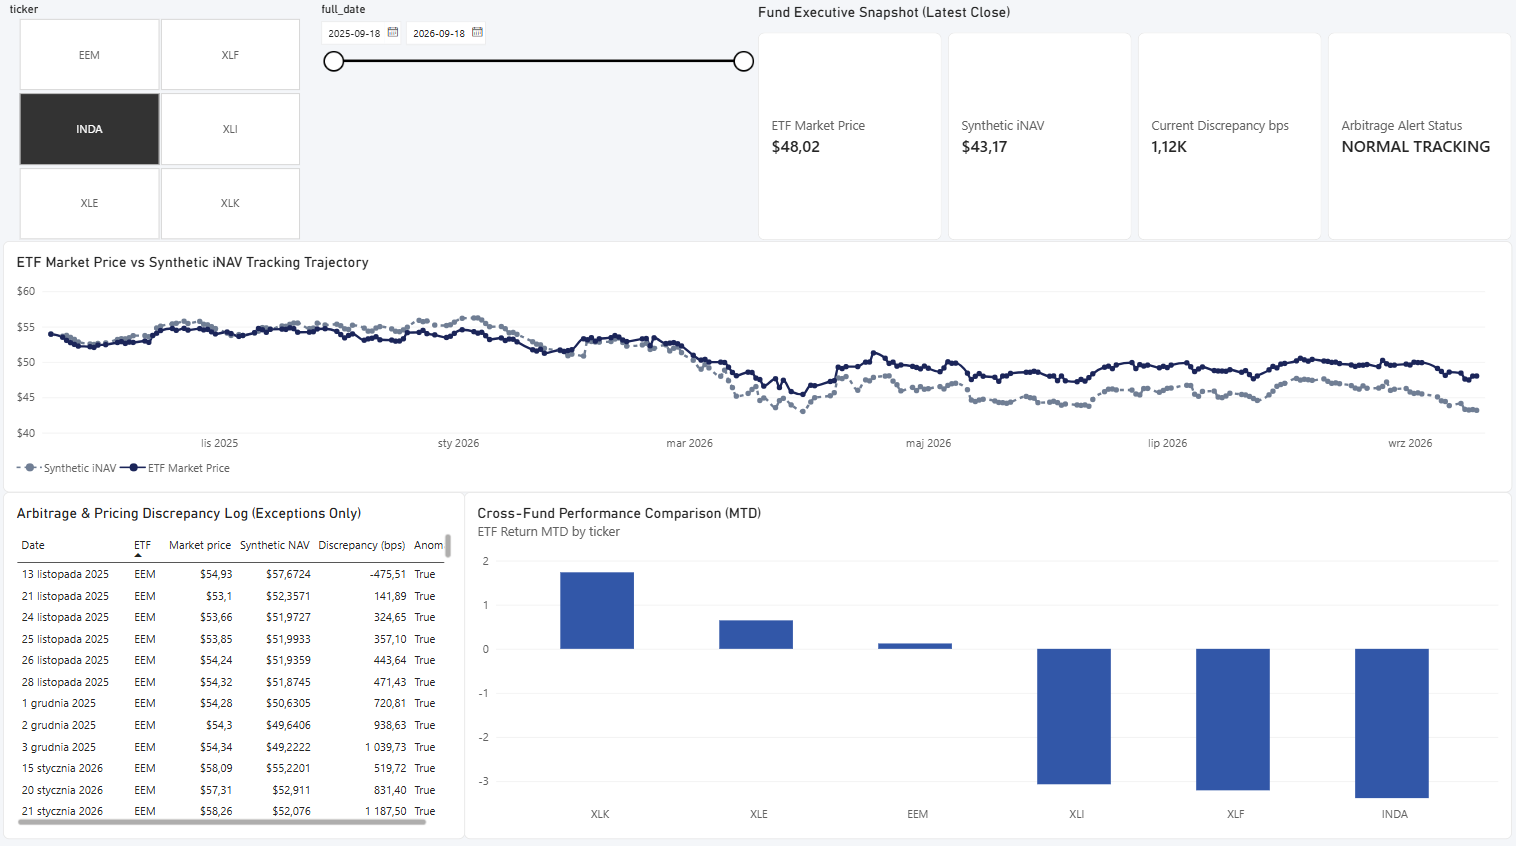

Layout of this report page (visuals, bound fields, positions):
{"tool":"powerbi","page":{"name":"Executive / Oversight","canvas":[1920,1080],"ordinal":0},"visuals":[{"type":"slicer","fields":{"Values":["dim_security.ticker"]},"box":[13.3,16,391,297.9],"z":0},{"type":"slicer","fields":{"Values":["dim_date.full_date"]},"box":[404.3,16,556,297.9],"z":1000},{"type":"cardVisual","title":"Fund Executive Snapshot (Latest Close)","fields":{"Data":["_Measures.ETF Market Price","_Measures.Synthetic iNAV","_Measures.Current Discrepancy bps","_Measures.Arbitrage Alert Status"]},"box":[960.3,16,944.3,297.9],"z":2000},{"type":"lineChart","title":"ETF Market Price vs Synthetic iNAV Tracking Trajectory","fields":{"Category":["dim_date.full_date"],"Y":["_Measures.Synthetic iNAV","_Measures.ETF Market Price"]},"box":[13.3,313.9,1891.3,315.2],"z":3000},{"type":"clusteredColumnChart","title":"Cross-Fund Performance Comparison (MTD)","fields":{"Category":["dim_security.ticker"],"Y":["_Measures.ETF Return MTD"]},"box":[591.9,629.1,1312.8,434.9],"z":4000},{"type":"tableEx","title":"Arbitrage & Pricing Discrepancy Log (Exceptions Only)","fields":{"Values":["dim_date.full_date","view_etf_market_analytics.ticker","view_etf_market_analytics.etf_market_price","view_etf_market_analytics.synthetic_nav","view_etf_market_analytics.discrepancy_bps","view_etf_market_analytics.is_sql_anomaly"]},"box":[13.3,629.1,578.6,434.9],"z":5000}]}

Visuals, with their boxes in screenshot pixels (x1, y1, x2, y2), scaled from the page's 1920x1080 canvas onto the 1516x846 screenshot:
slicer - dim_security.ticker: x1=11, y1=13, x2=319, y2=246
slicer - dim_date.full_date: x1=319, y1=13, x2=758, y2=246
"Fund Executive Snapshot (Latest Close)" cardVisual: x1=758, y1=13, x2=1504, y2=246
"ETF Market Price vs Synthetic iNAV Tracking Trajectory" lineChart: x1=11, y1=246, x2=1504, y2=493
"Cross-Fund Performance Comparison (MTD)" clusteredColumnChart: x1=467, y1=493, x2=1504, y2=833
"Arbitrage & Pricing Discrepancy Log (Exceptions Only)" tableEx: x1=11, y1=493, x2=467, y2=833
